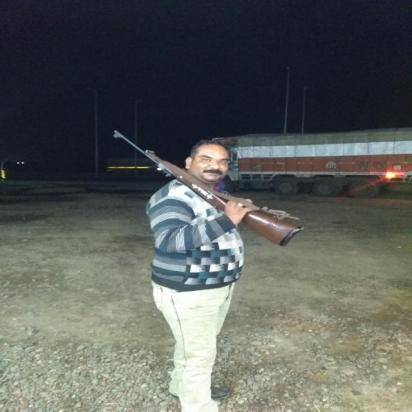Gun: (112, 129, 306, 248)
